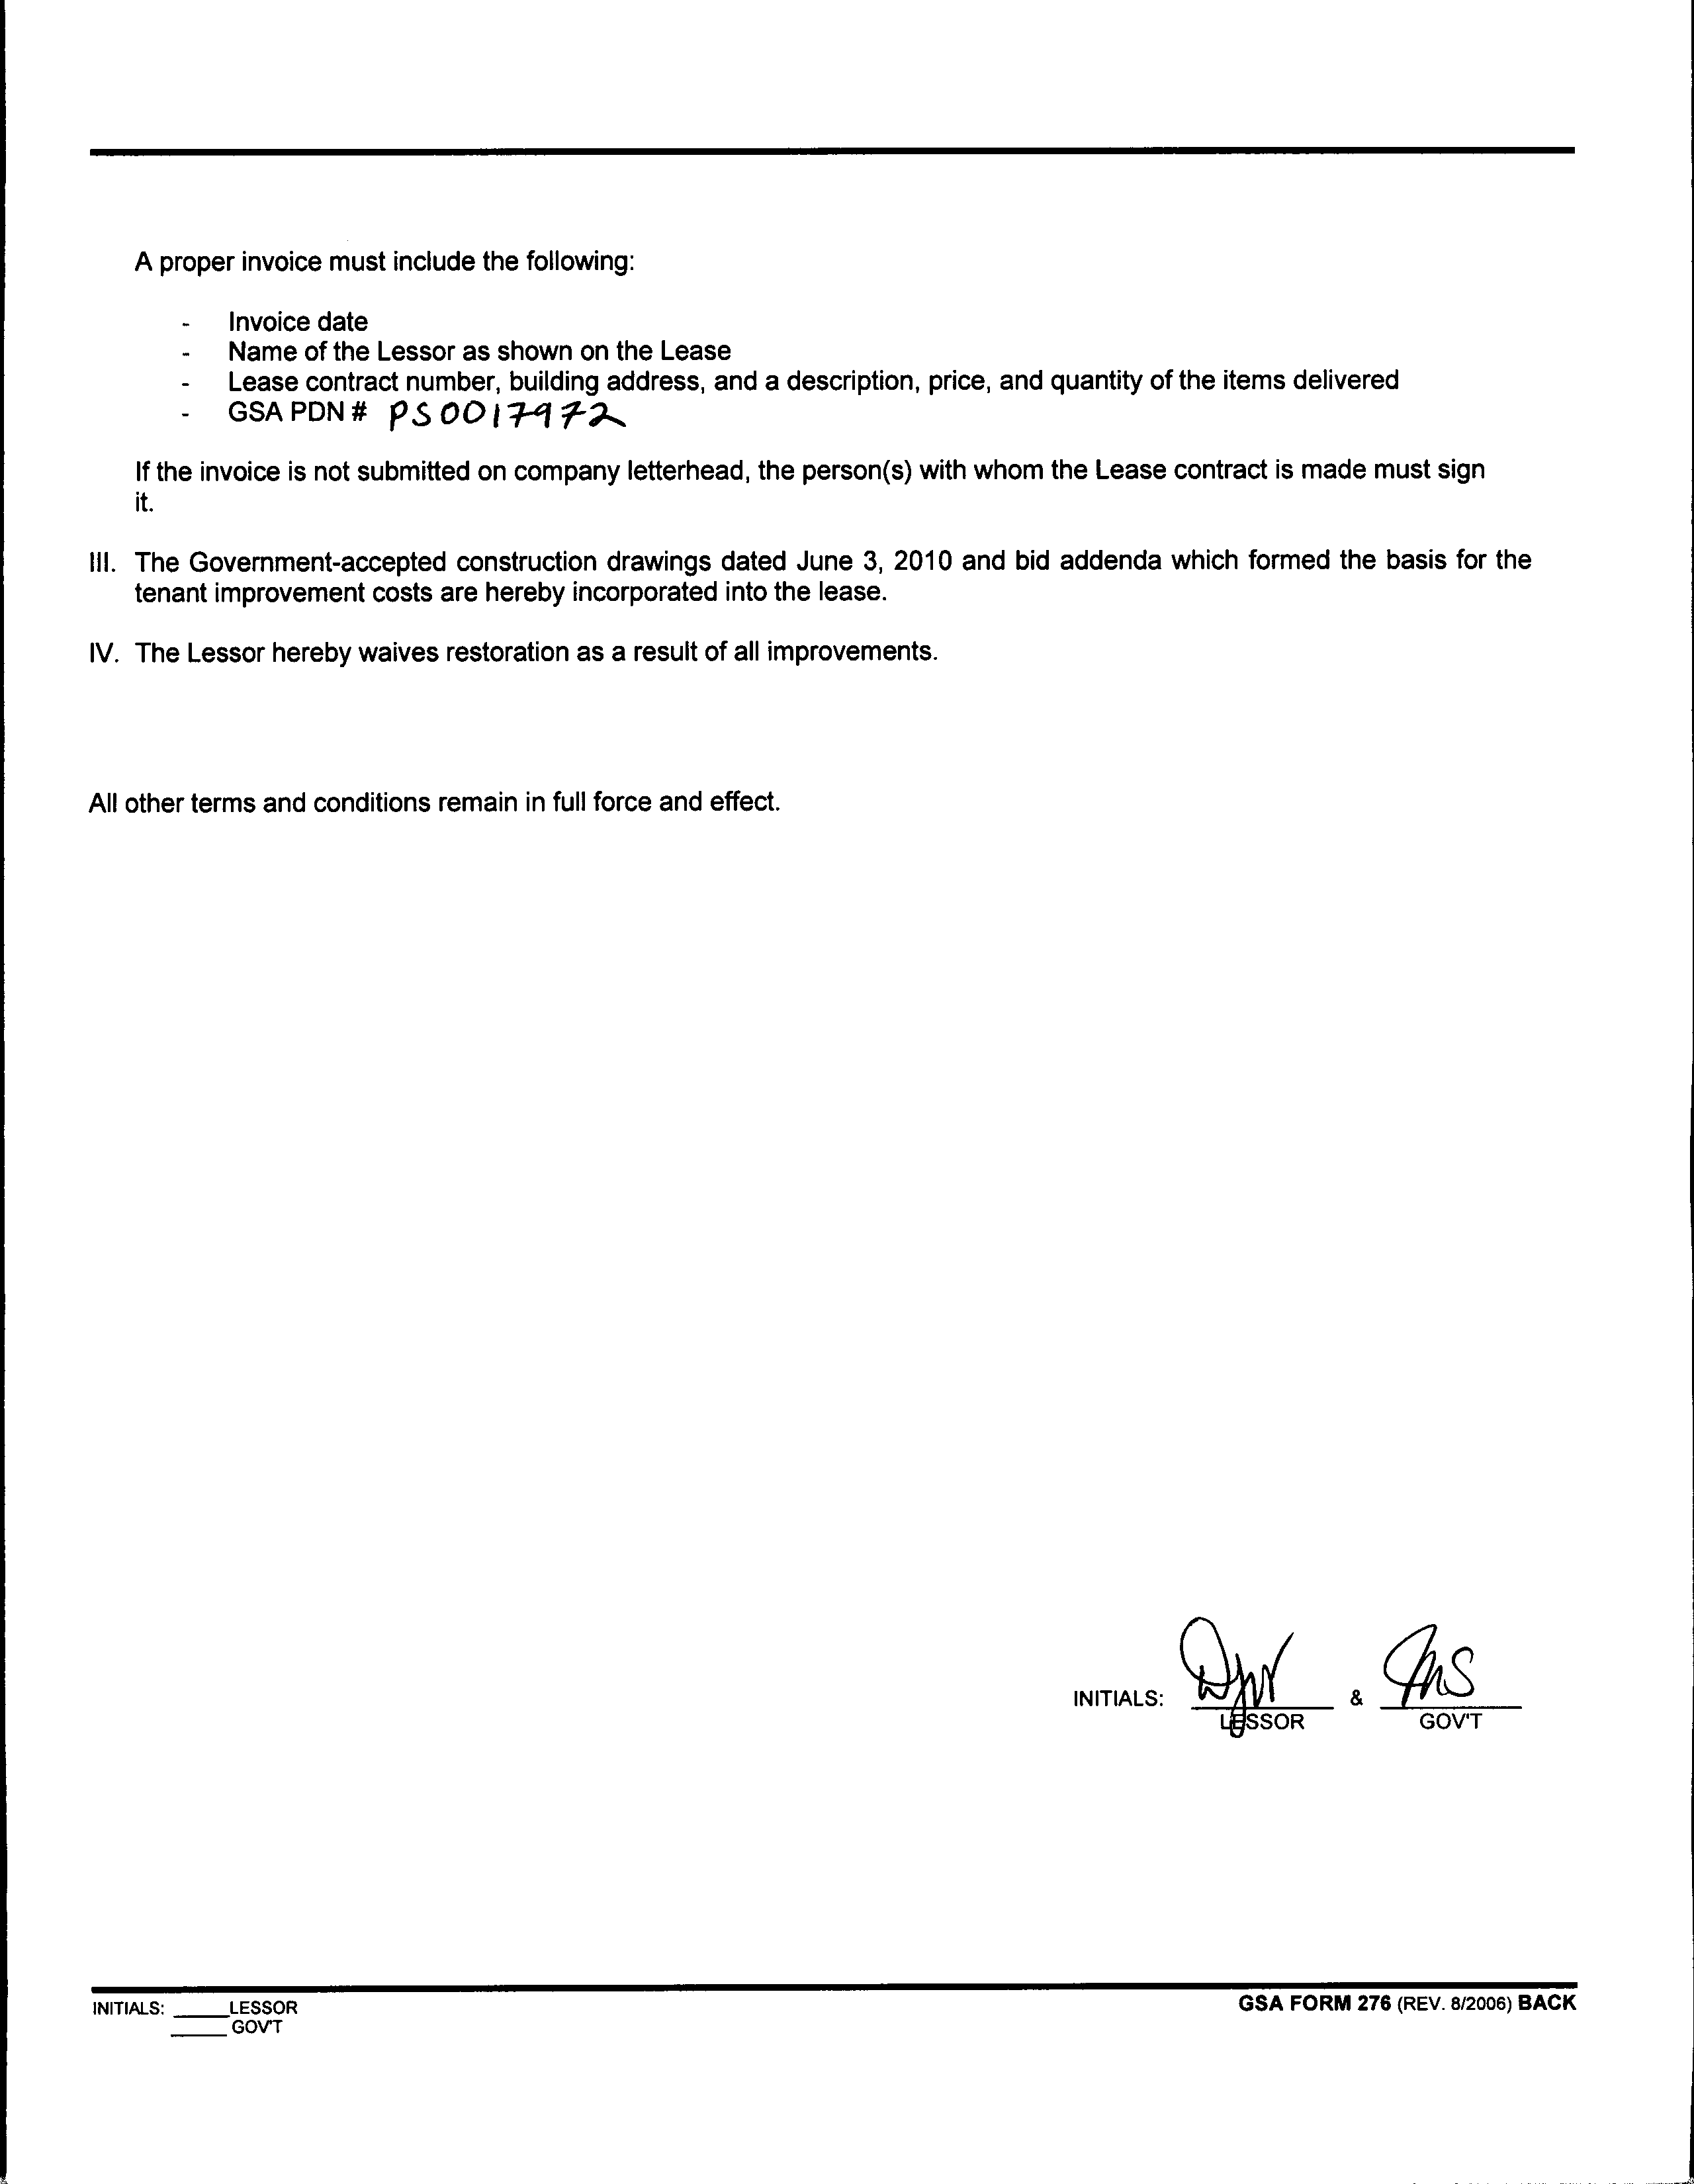handwritten: (1169, 1603, 1306, 1705), (1373, 1611, 1496, 1705), (376, 395, 633, 440)
